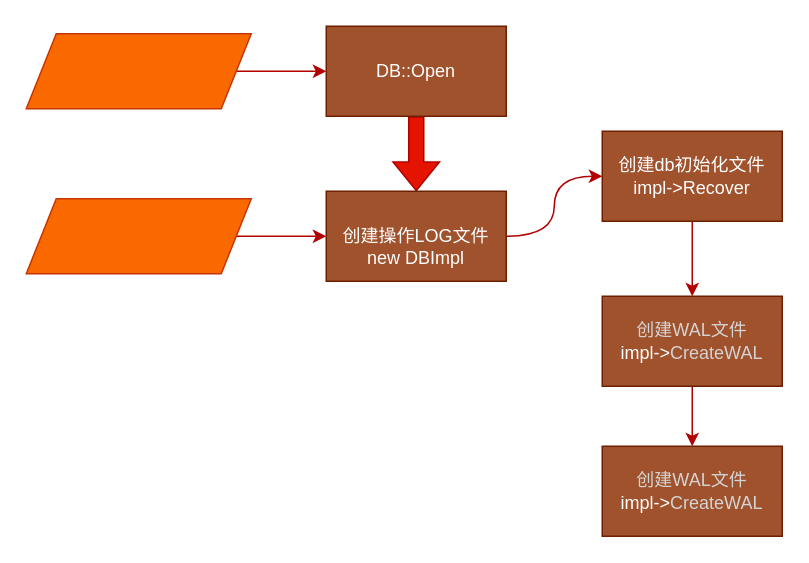
Some shapes in this 809 by 563 pixel diagram are drawn without their labels. The shapes that lost their labels are listed below. From the top down, each one's centre as x and y in pixels, then its label:
the point at 138,70: db_impl_open.cc
the point at 138,235: db_impl.cc
